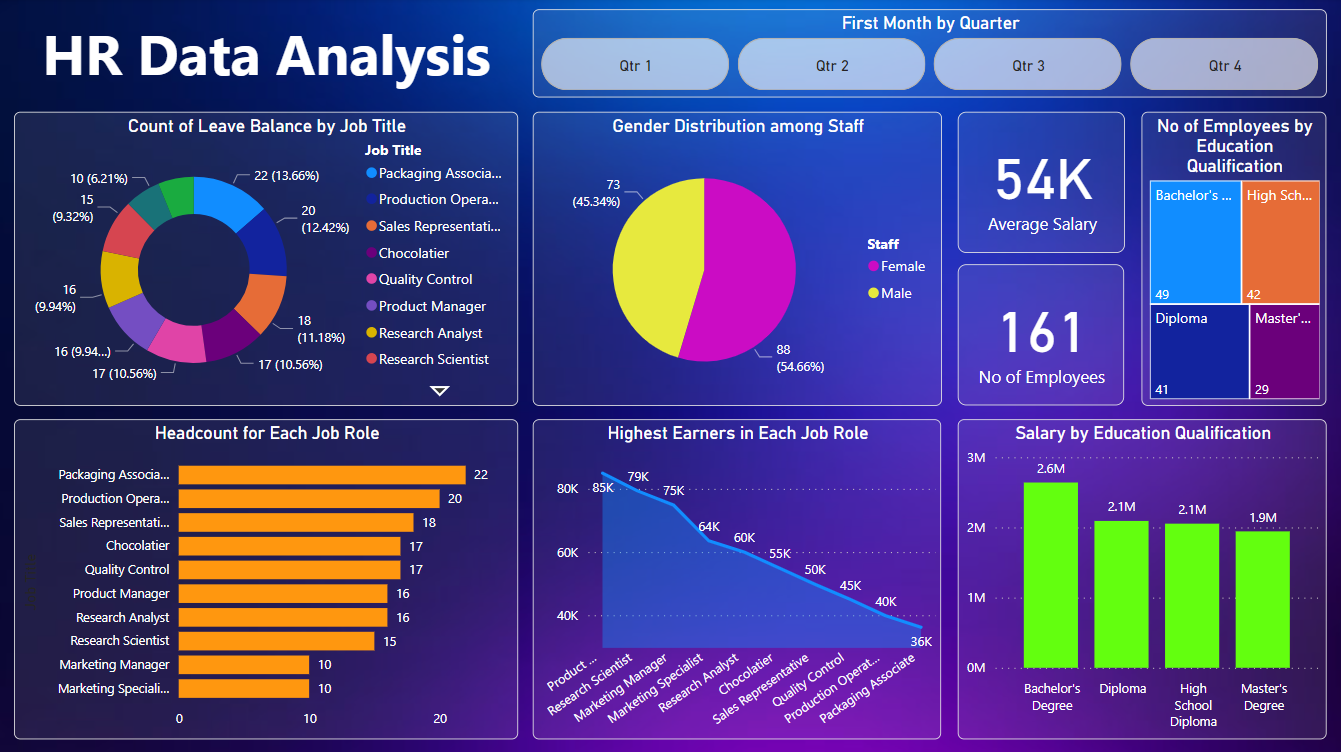

What the dashboard file says about the page in this screenshot:
{"tool":"powerbi","page":{"name":"Page 1","canvas":[1280,720],"ordinal":0},"visuals":[{"type":"barChart","title":"Headcount for Each Job Role","fields":{"Category":["data.Job Title"],"Y":["data.No of Employees"]},"box":[13.7,400.7,480.3,304.6],"z":0},{"type":"areaChart","title":"Highest Earners in Each Job Role","fields":{"Y":["Max(data.Salary)"],"Category":["data.Job Title"]},"box":[508.2,401.1,389.2,304.7],"z":1000},{"type":"pieChart","title":"Gender Distribution among Staff","fields":{"Category":["data.Gender"],"Y":["CountNonNull(data.Emp ID)"]},"box":[507.7,108.4,389.7,279.9],"z":2000},{"type":"card","fields":{"Values":["Avg(data.Salary)"]},"box":[912.8,108.3,159.5,134.5],"z":3000},{"type":"columnChart","fields":{"Category":["data.Education Qualification"],"Y":["Sum(data.Salary)"]},"box":[912.5,400.7,351.3,304.6],"z":4000},{"type":"donutChart","fields":{"Y":["CountNonNull(data.Leave Balance)"],"Category":["data.Job Title"]},"box":[13.7,108.4,480.3,279.9],"z":5000},{"type":"card","fields":{"Values":["data.No of Employees"]},"box":[912.8,253.5,158.3,134.5],"z":5001},{"type":"advancedSlicerVisual","fields":{"Values":["data.Date of Join.Variation.Date Hierarchy.Quarter"]},"box":[507.7,11,756.1,83.7],"z":5002},{"type":"textbox","box":[14.3,10.7,480.8,83.3],"z":5003},{"type":"treemap","fields":{"Details":["data.Education Qualification"],"Values":["data.No of Employees"]},"box":[1087.7,108.3,176.1,279.7],"z":5004}]}

Visuals, with their boxes in screenshot pixels (x1, y1, x2, y2), scaled from the page's 1280x720 canvas onto the 1341x752 screenshot:
"Headcount for Each Job Role" barChart: x1=14 y1=419 x2=518 y2=737
"Highest Earners in Each Job Role" areaChart: x1=532 y1=419 x2=940 y2=737
"Gender Distribution among Staff" pieChart: x1=532 y1=113 x2=940 y2=406
card - Avg(data.Salary): x1=956 y1=113 x2=1123 y2=254
columnChart - data.Education Qualification x Sum(data.Salary): x1=956 y1=419 x2=1324 y2=737
donutChart - CountNonNull(data.Leave Balance) x data.Job Title: x1=14 y1=113 x2=518 y2=406
card - data.No of Employees: x1=956 y1=265 x2=1122 y2=405
advancedSlicerVisual - data.Date of Join.Variation.Date Hierarchy.Quarter: x1=532 y1=11 x2=1324 y2=99
textbox: x1=15 y1=11 x2=519 y2=98
treemap - data.Education Qualification x data.No of Employees: x1=1140 y1=113 x2=1324 y2=405
